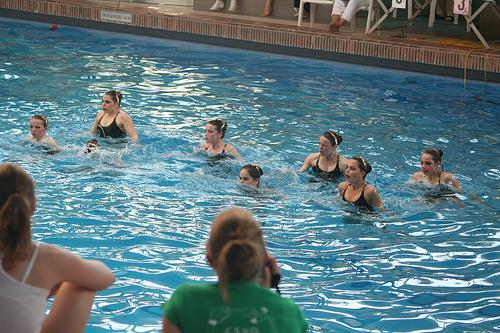human: (86, 90, 143, 150), (300, 130, 354, 186), (339, 155, 385, 214), (410, 146, 462, 196), (200, 116, 239, 163), (22, 110, 57, 147), (238, 162, 266, 194)
